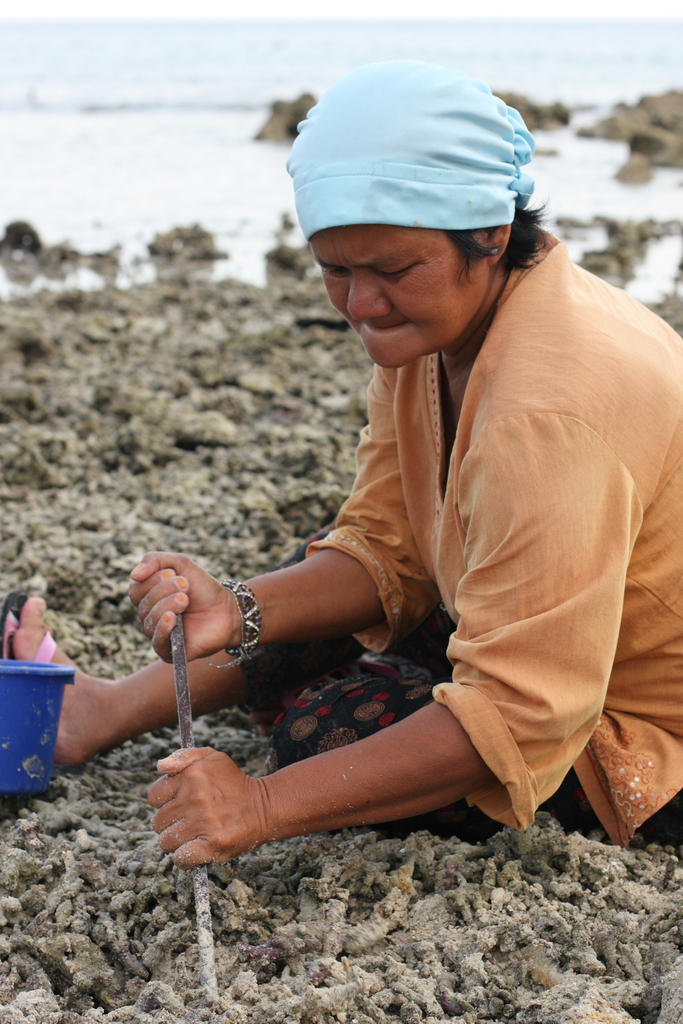Human_hand: (141, 743, 276, 876), (125, 550, 241, 669)
